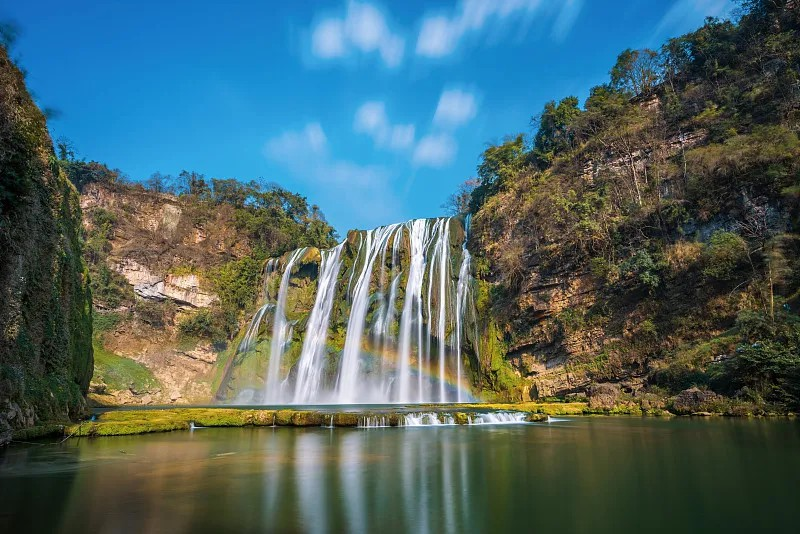Huangguoshu: (227, 217, 474, 404)
